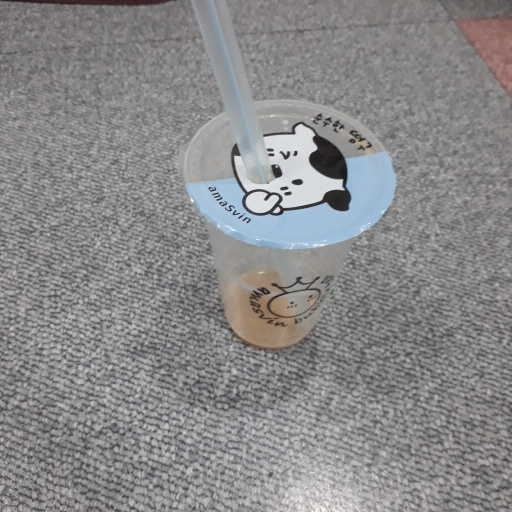Plastic_2: (175, 2, 400, 346)
